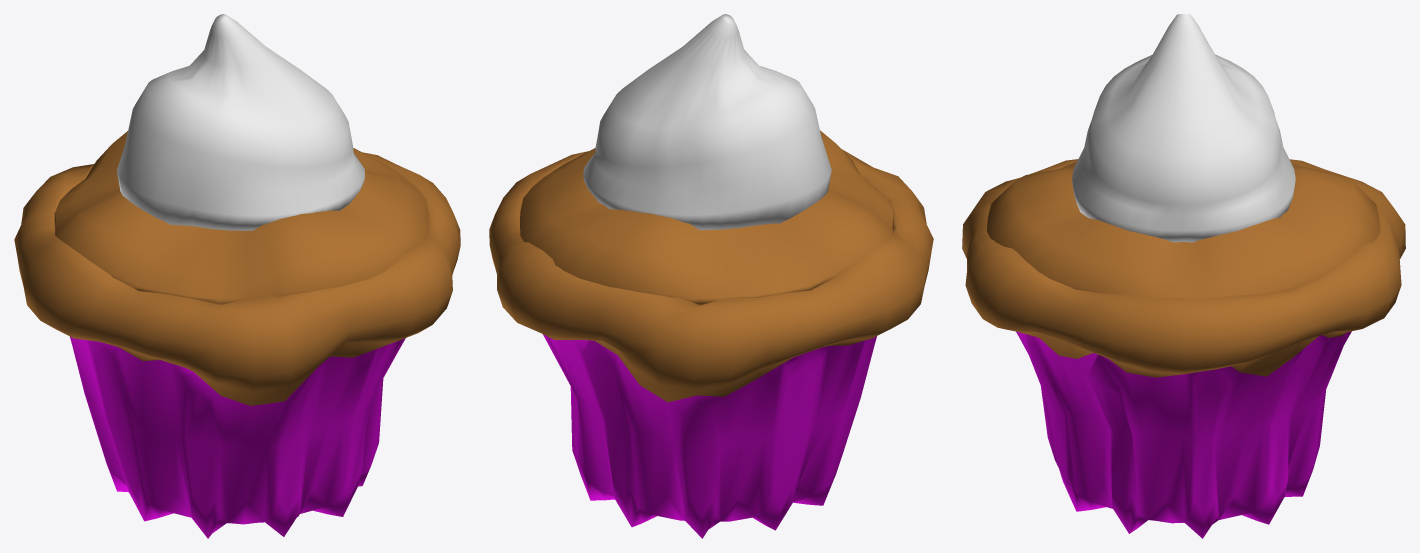
Rendered from Cake.fbx.
3 renders of one model, left to right at view 1: azimuth 30°, elevation 25°; view 2: azimuth 150°, elevation 25°; view 3: azimuth 270°, elevation 25°, orthographic. The views are drawn at different scales.
Parts seen in each view (by area): view 1: pCylinder1; view 2: pCylinder1; view 3: pCylinder1.
Boxes of the visible parts, x1=… form: pCylinder1: x1=14, y1=14, x2=460, y2=538; pCylinder1: x1=489, y1=14, x2=933, y2=538; pCylinder1: x1=962, y1=14, x2=1405, y2=538.
Size of the model in its own units: 3.87 by 4.38 by 3.75.
